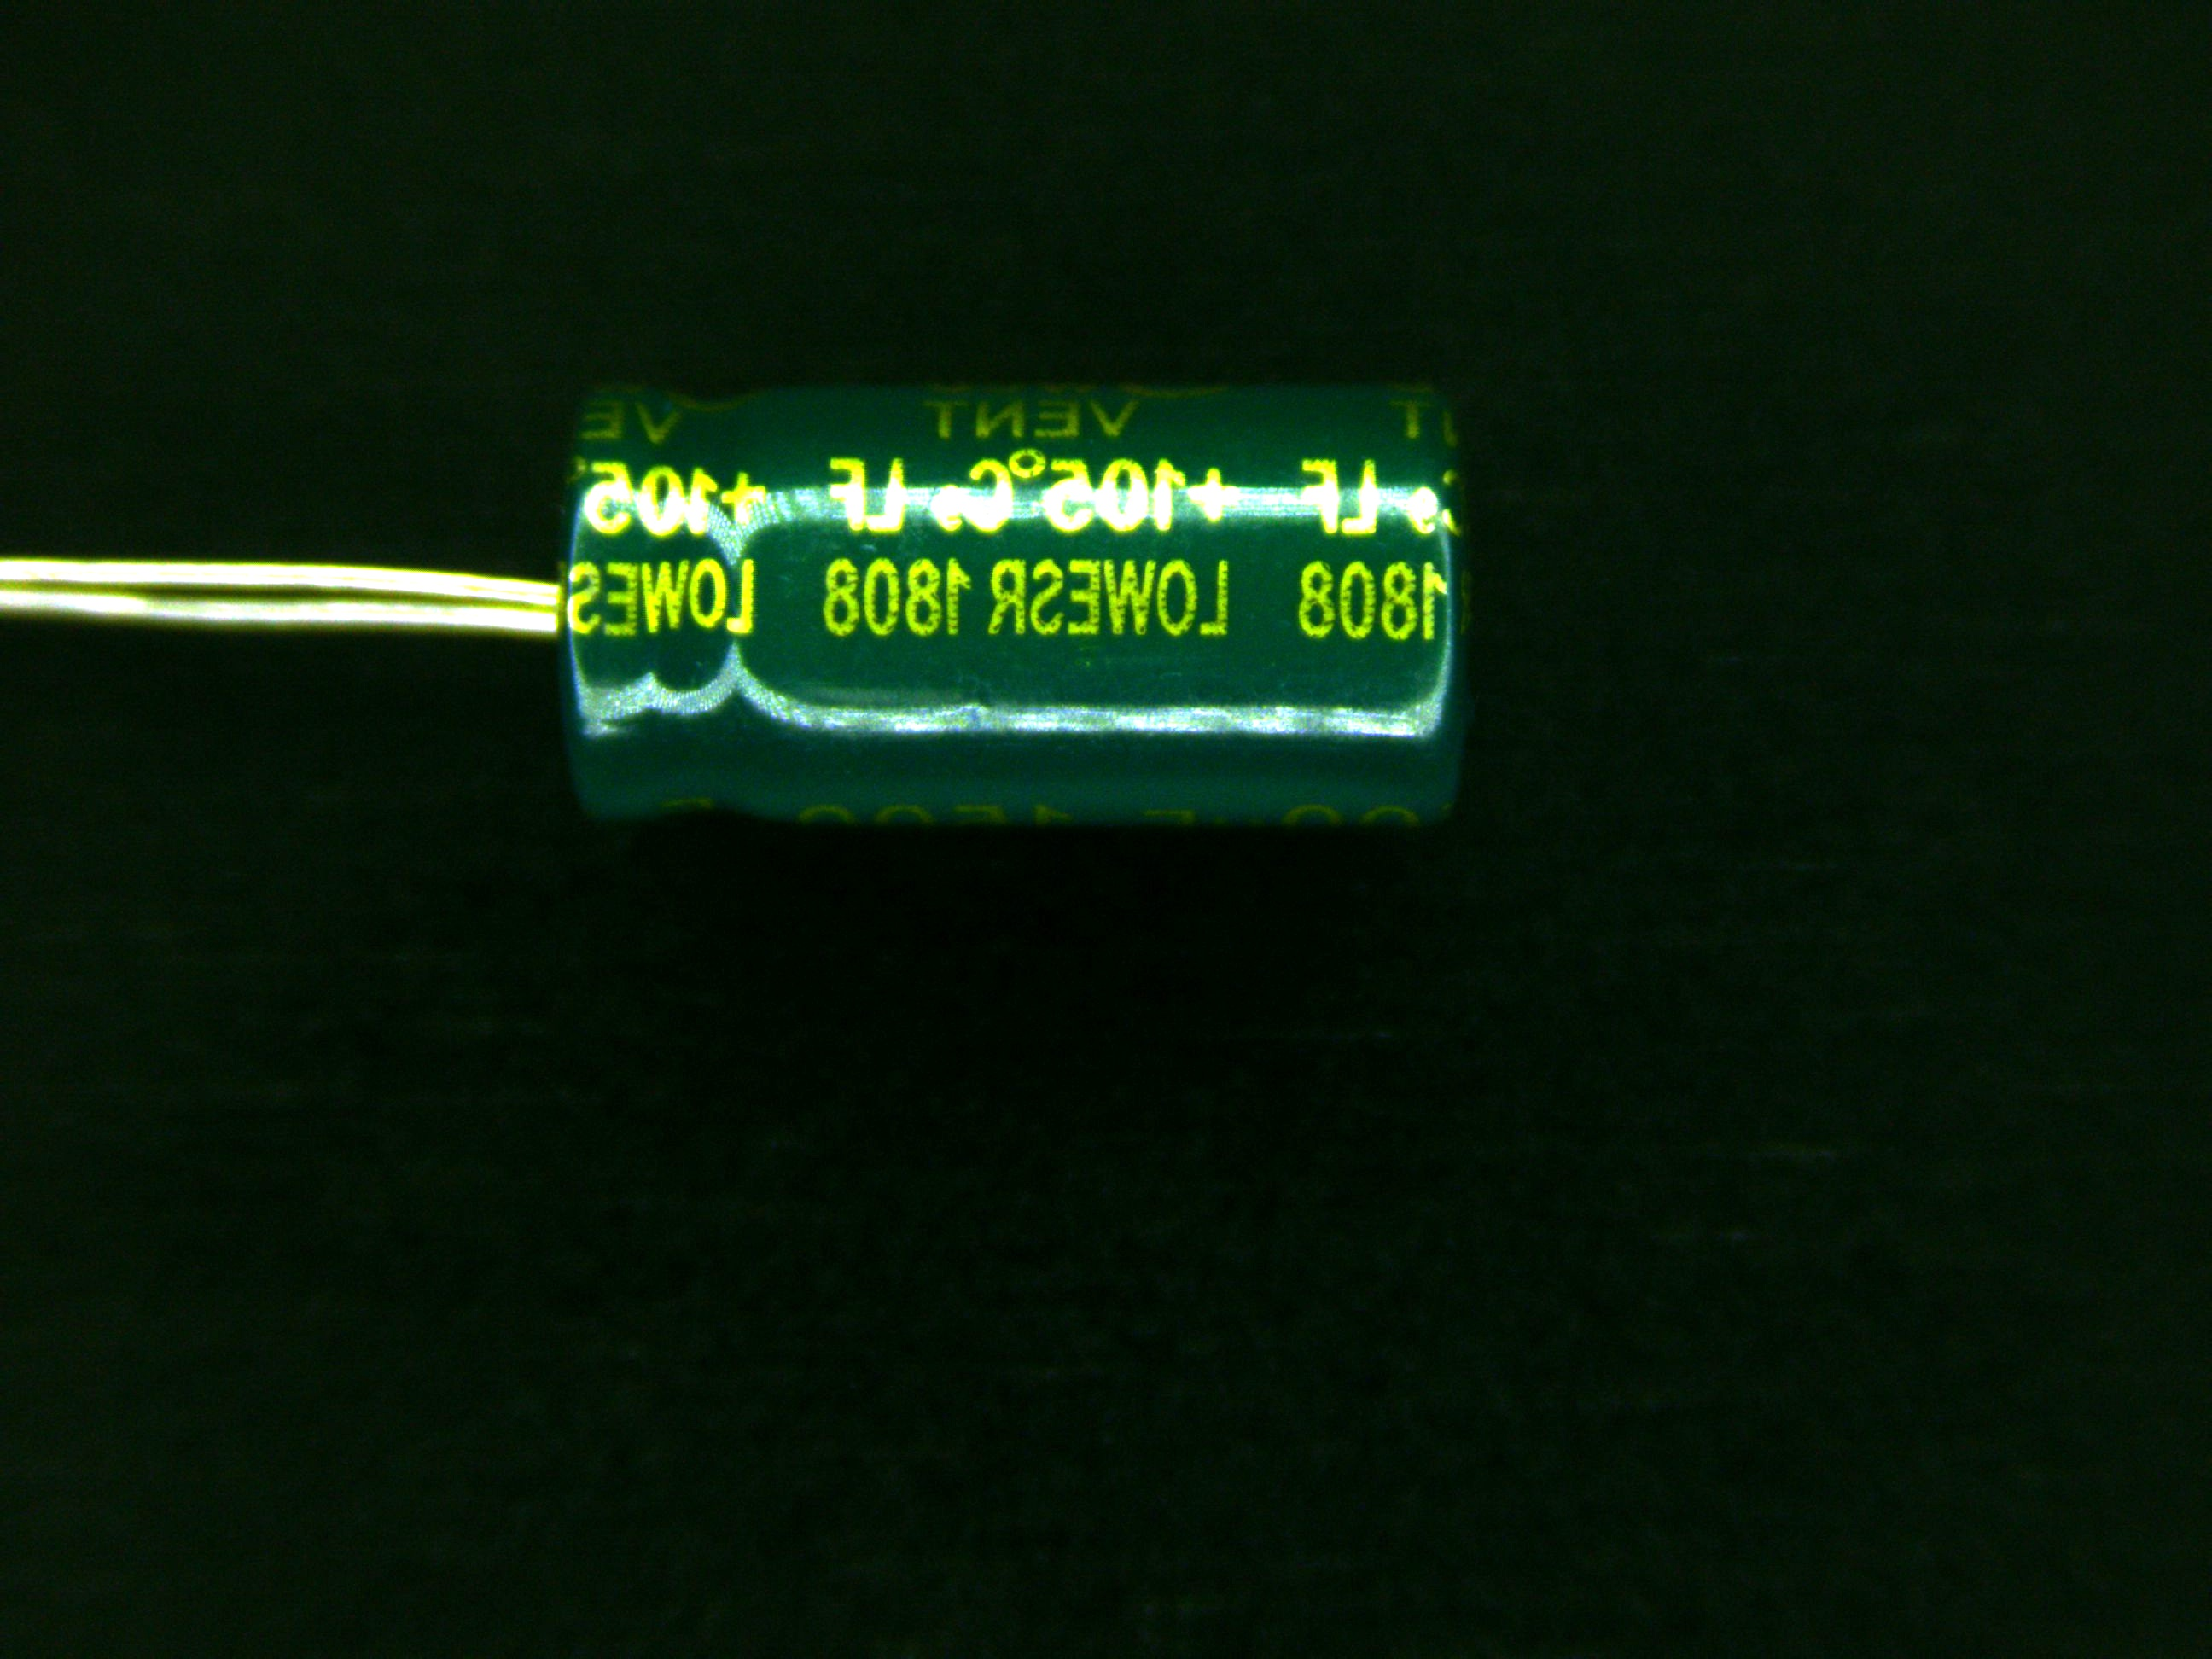c1: (460, 399, 1477, 835)
